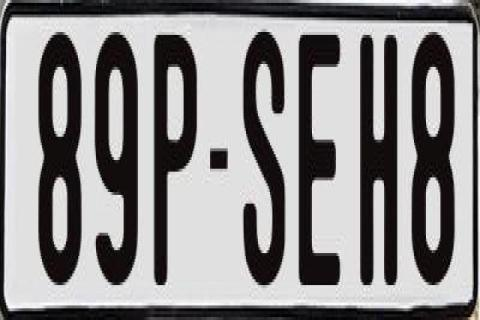0: (92, 29, 140, 282), (39, 29, 86, 282), (408, 23, 452, 276)
E: (298, 35, 340, 288)
H: (360, 35, 404, 288)
P: (152, 35, 194, 303)
S: (244, 26, 284, 288)
